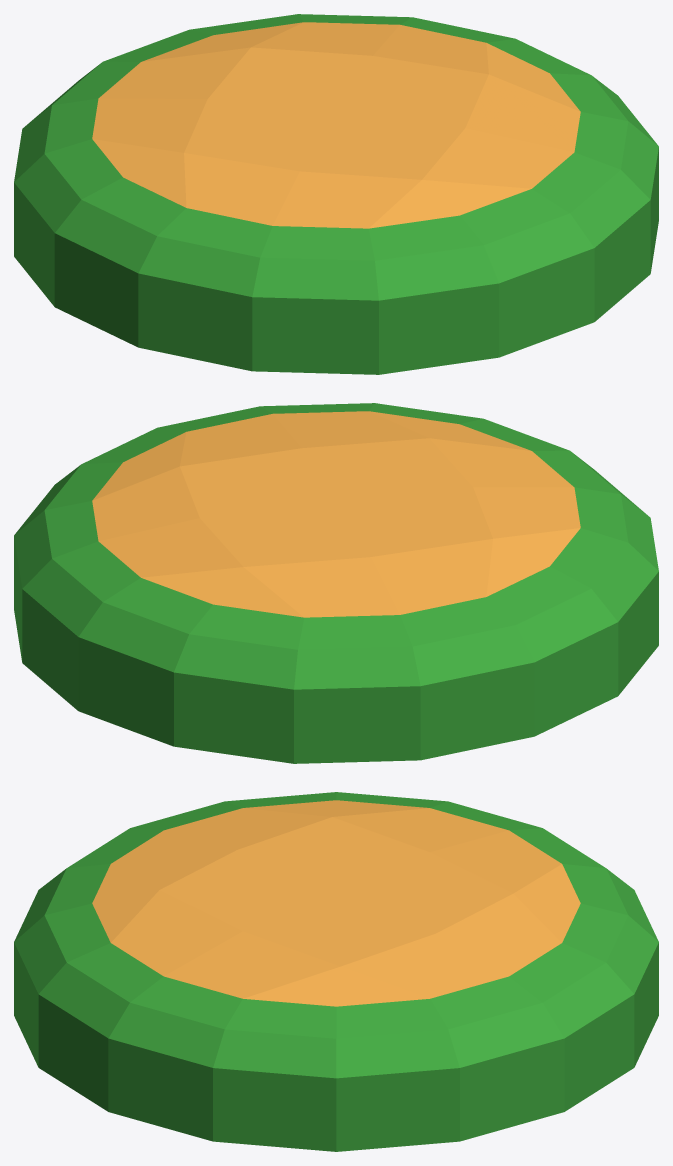
Rendered from Island.fbx.
3 renders of one model, top to bottom at view 1: azimuth 30°, elevation 25°; view 2: azimuth 150°, elevation 25°; view 3: azimuth 270°, elevation 25°, orthographic.
Parts seen in each view (by area): view 1: Cylinder.002; view 2: Cylinder.002; view 3: Cylinder.002.
Part boxes in pixels (left/top/right/bottom): Cylinder.002: left=14, top=14, right=658, bottom=374; Cylinder.002: left=14, top=403, right=658, bottom=763; Cylinder.002: left=14, top=792, right=658, bottom=1151.
Bounding box in the file's own units: 221 × 46.82 × 221.
